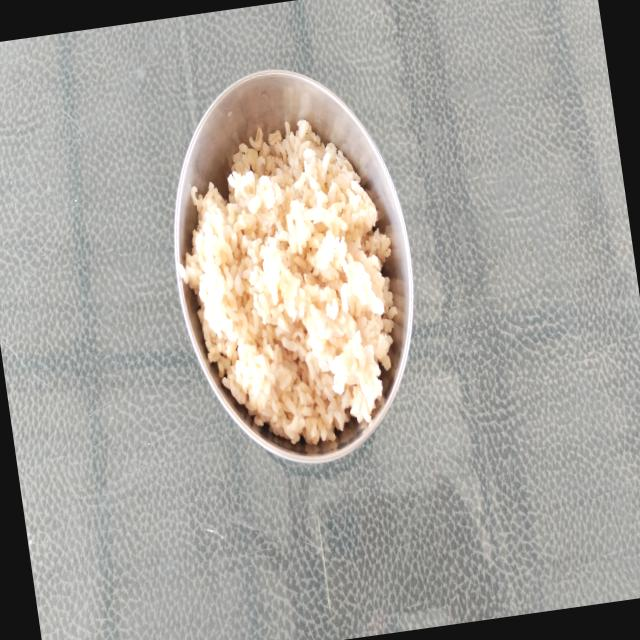brown-rice: (179, 120, 396, 445)
